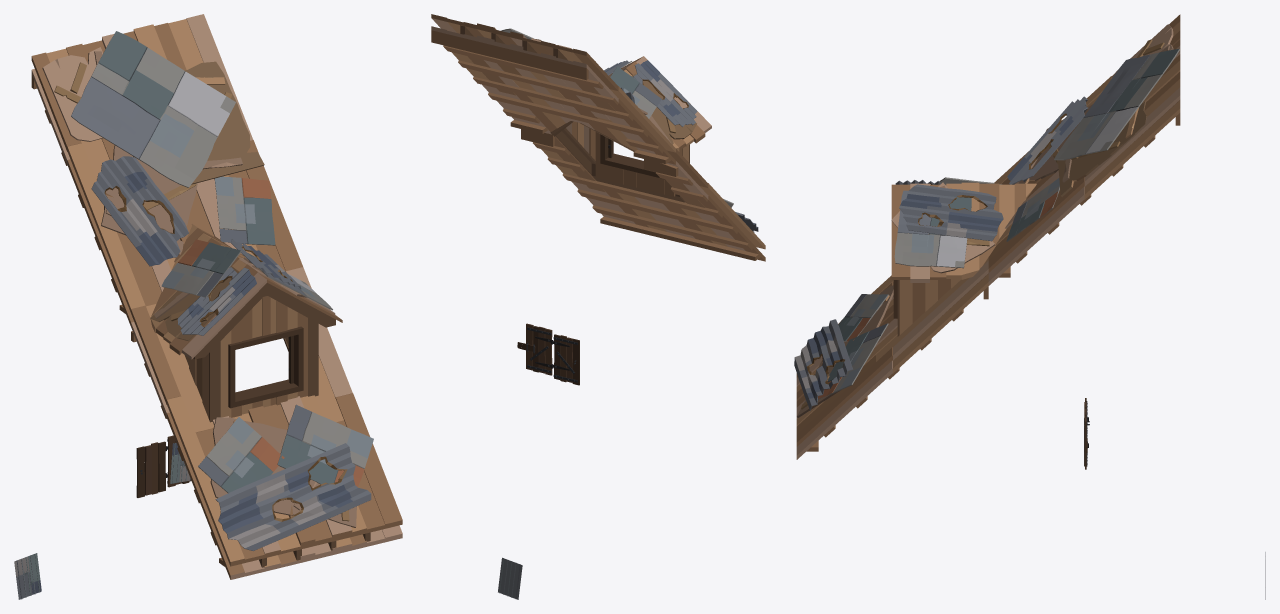
Rendered from SM_Roof_Window_Lvl_1.glb.
3 renders of one model, left to right at view 1: azimuth 30°, elevation 25°; view 2: azimuth 150°, elevation 25°; view 3: azimuth 270°, elevation 25°, orthographic. The views are drawn at different scales.
Parts seen in each view (by area): view 1: SM_Roof_Window_Lvl_1, SM_Roof_Window_Lvl_3, SM_Roof_Window_Lvl_2, SM_Roof_Window_Door_Right_Lvl_2, SM_Roof_Window_Door_Lvl_3, SM_Roof_Window_Diir_Lvl_3; view 2: SM_Roof_Window_Lvl_1, SM_Roof_Window_Lvl_3, SM_Roof_Window_Door_Left_Lvl_2, SM_Roof_Window_Door_Right_Lvl_2, SM_Roof_Window_Lvl_2, SM_Roof_Window_Door_Lvl_3; view 3: SM_Roof_Window_Lvl_3, SM_Roof_Window_Lvl_1, SM_Roof_Window_Lvl_2.
Boxes of the visible parts, bbox=[...] form: SM_Roof_Window_Lvl_1: bbox=[31, 14, 402, 579]; SM_Roof_Window_Lvl_3: bbox=[71, 31, 373, 550]; SM_Roof_Window_Lvl_2: bbox=[42, 47, 356, 527]; SM_Roof_Window_Door_Right_Lvl_2: bbox=[136, 441, 166, 497]; SM_Roof_Window_Door_Lvl_3: bbox=[14, 553, 41, 599]; SM_Roof_Window_Diir_Lvl_3: bbox=[170, 443, 190, 483]; SM_Roof_Window_Lvl_1: bbox=[431, 14, 765, 261]; SM_Roof_Window_Lvl_3: bbox=[501, 28, 758, 232]; SM_Roof_Window_Door_Left_Lvl_2: bbox=[517, 323, 553, 375]; SM_Roof_Window_Door_Right_Lvl_2: bbox=[551, 334, 579, 385]; SM_Roof_Window_Lvl_2: bbox=[531, 38, 696, 157]; SM_Roof_Window_Door_Lvl_3: bbox=[498, 557, 522, 599]; SM_Roof_Window_Lvl_3: bbox=[794, 49, 1179, 410]; SM_Roof_Window_Lvl_1: bbox=[796, 14, 1180, 459]; SM_Roof_Window_Lvl_2: bbox=[796, 24, 1173, 417].
Size of the model in its own units: 2 by 6.53 by 4.91.
Materials: 1 (1 with a texture image).
